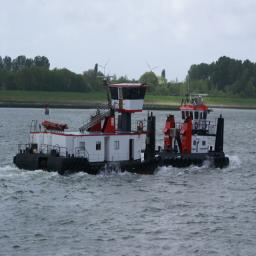tugboat: (14, 74, 159, 182), (142, 89, 231, 174)
